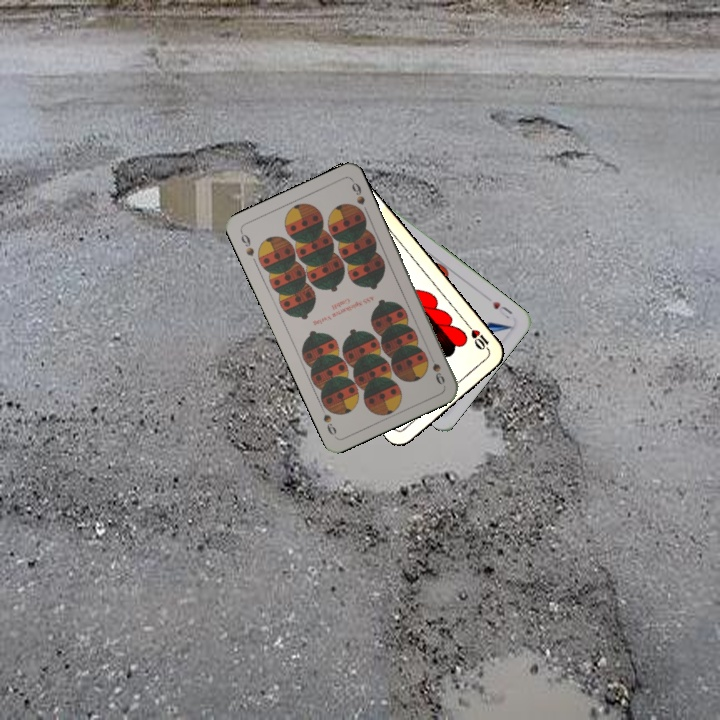H10: (463, 320, 493, 354)
HU: (488, 297, 515, 321)
S9: (426, 349, 447, 387), (236, 228, 257, 259)
